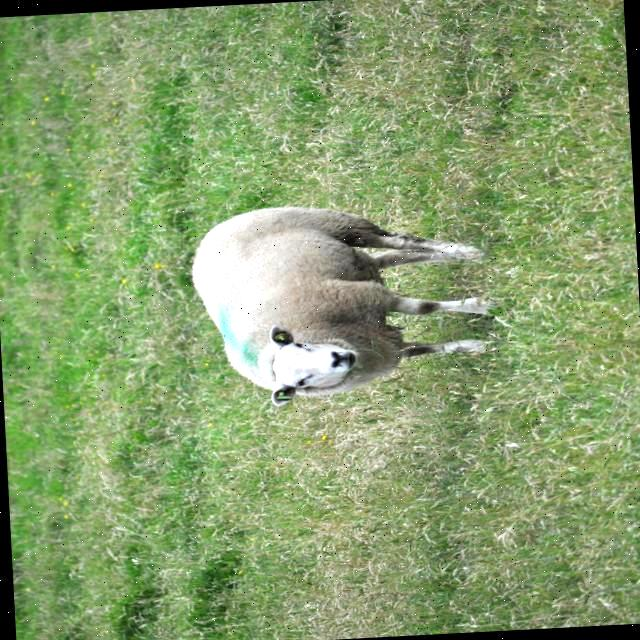sheep: (192, 204, 489, 405)
